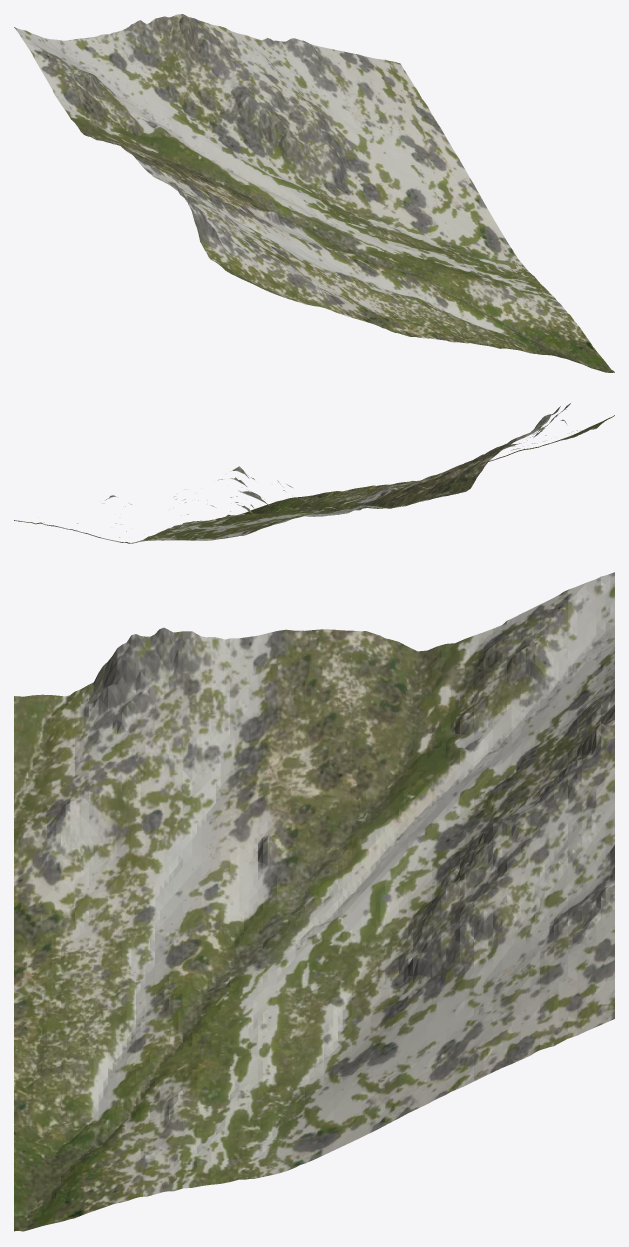
The picture shows the model from 3 angles, top to bottom: view 1: azimuth 30°, elevation 25°; view 2: azimuth 150°, elevation 25°; view 3: azimuth 270°, elevation 25°; orthographic projection. The views are drawn at different scales.
Size of the model in its own units: 500 by 351 by 481.
Materials: 1 (1 with a texture image).
